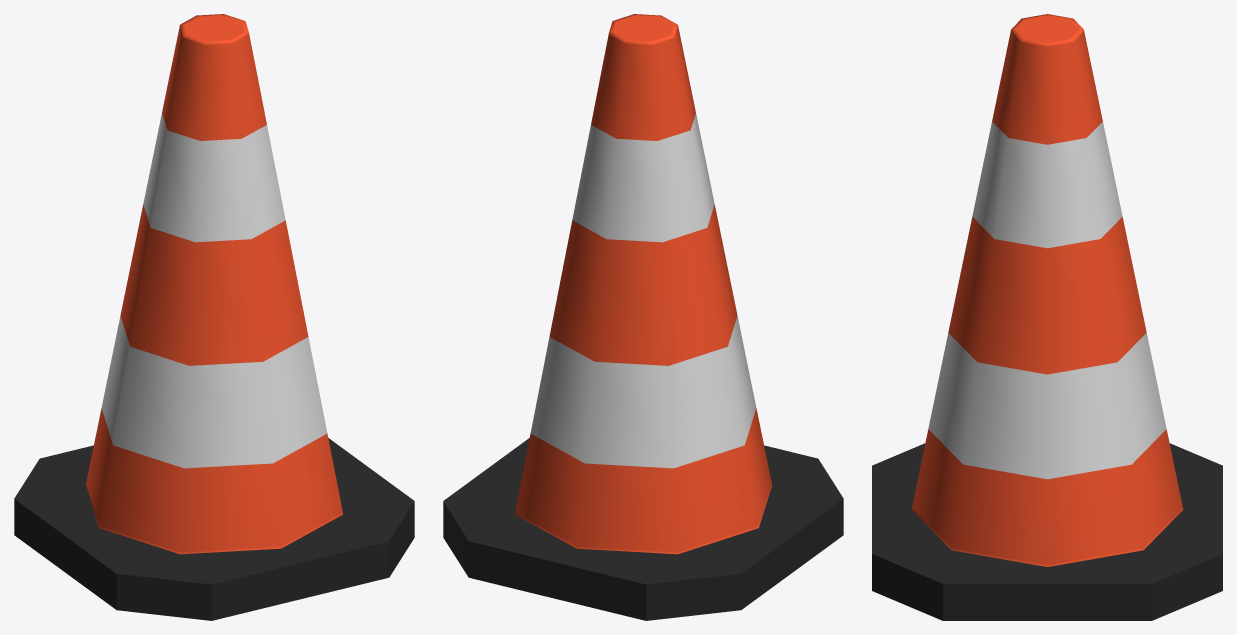
The model's file is pacholek.fbx.
3 renders of one model, left to right at view 1: azimuth 30°, elevation 25°; view 2: azimuth 150°, elevation 25°; view 3: azimuth 270°, elevation 25°, orthographic.
Visible parts, largest first — view 1: pacholek; view 2: pacholek; view 3: pacholek.
Part boxes in pixels (x1=…): pacholek: x1=14, y1=14, x2=414, y2=620; pacholek: x1=443, y1=14, x2=843, y2=620; pacholek: x1=872, y1=14, x2=1222, y2=620.
Size of the model in its own units: 35.41 by 57.63 by 35.41.
